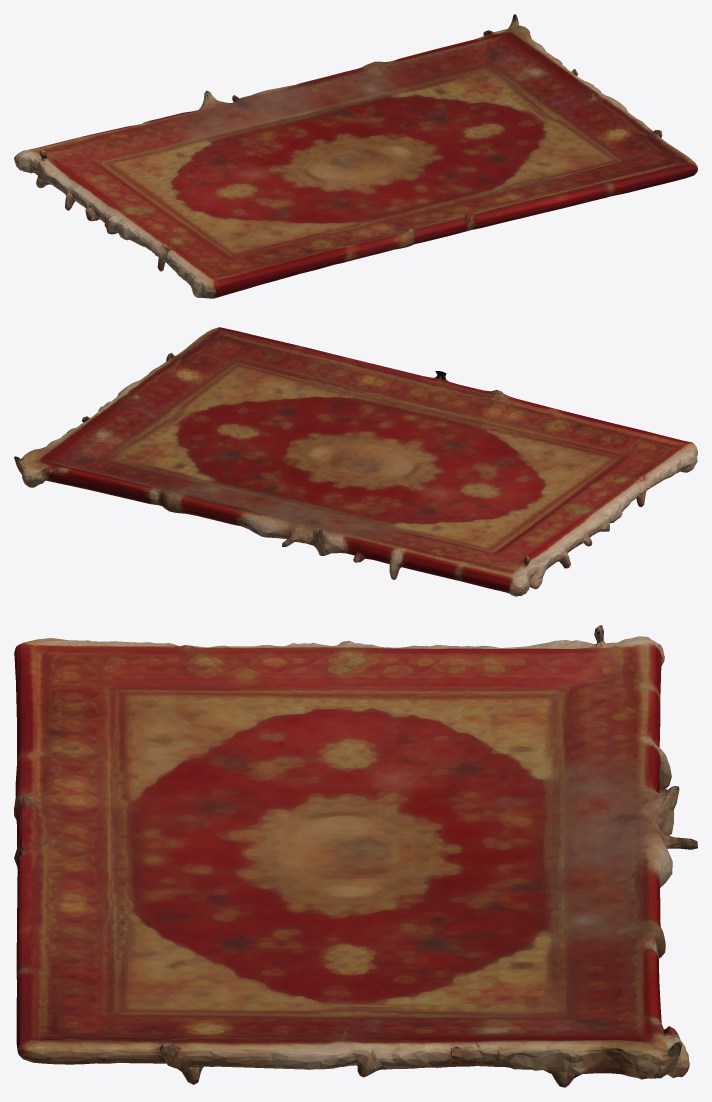
The picture shows the model from 3 angles, top to bottom: view 1: azimuth 30°, elevation 25°; view 2: azimuth 150°, elevation 25°; view 3: azimuth 270°, elevation 25°; orthographic projection. The views are drawn at different scales.
Parts seen in each view (by area): view 1: geometry_0; view 2: geometry_0; view 3: geometry_0.
Boxes of the visible parts, x1,y1,x2,y2 form: geometry_0: [14, 14, 697, 298]; geometry_0: [14, 327, 697, 596]; geometry_0: [14, 625, 697, 1087].
Bounding box in the file's own units: 0.9952 × 0.0745 × 0.6761.
Materials: 1 (1 with a texture image).
